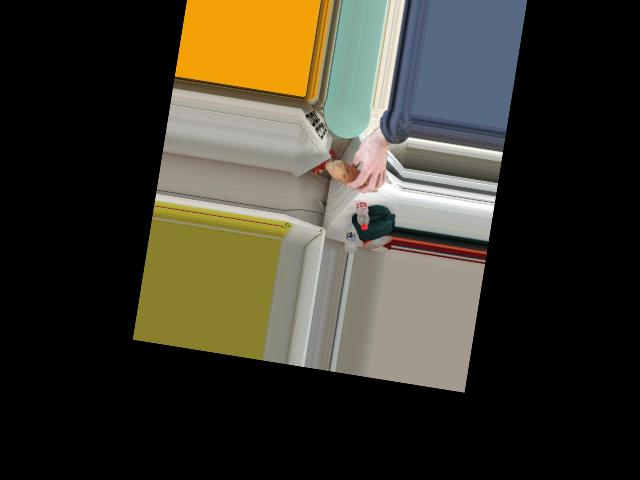sweet_potato: (324, 160, 384, 194)
